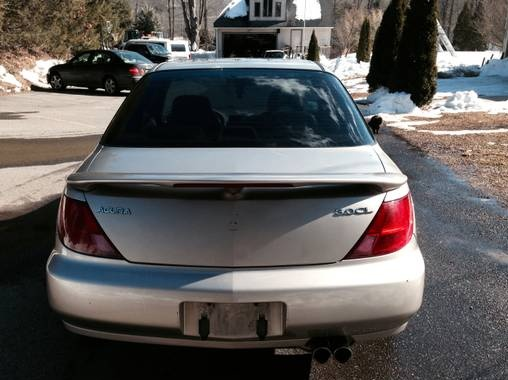acura: (48, 60, 428, 366)
